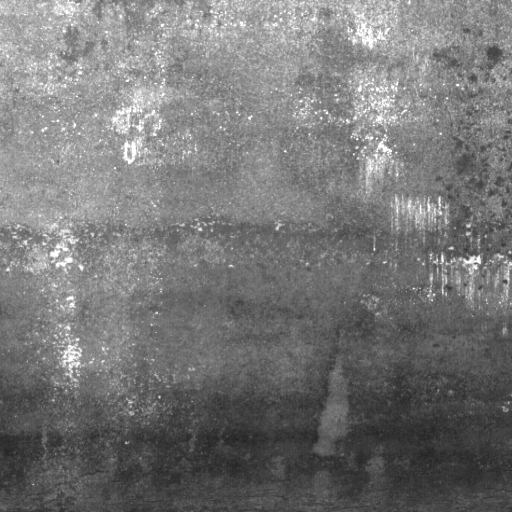xingxingliewen: (442, 116, 512, 256)
zongxianghuashang: (381, 190, 512, 312)
